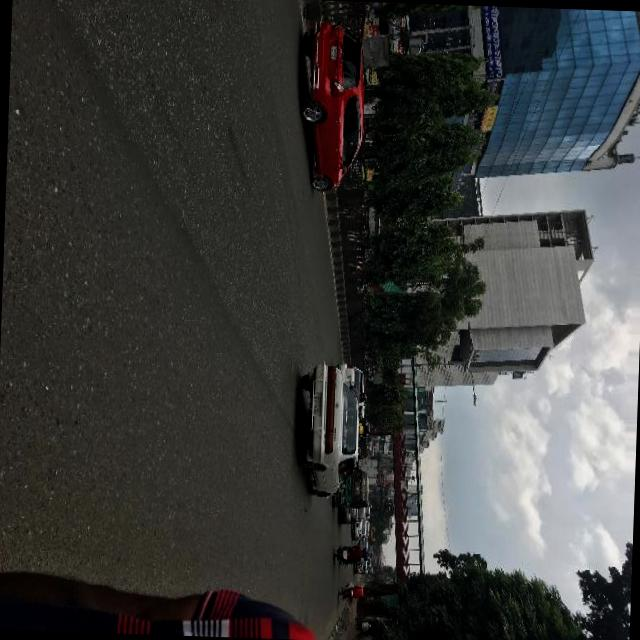bus: (365, 441, 375, 458), (368, 528, 376, 546), (368, 546, 373, 560)
car: (294, 20, 366, 196), (294, 358, 360, 502), (336, 508, 364, 527), (351, 519, 366, 541), (353, 560, 367, 576)
motorcycle: (332, 470, 368, 509), (332, 545, 368, 568)
truck: (364, 522, 370, 540)
